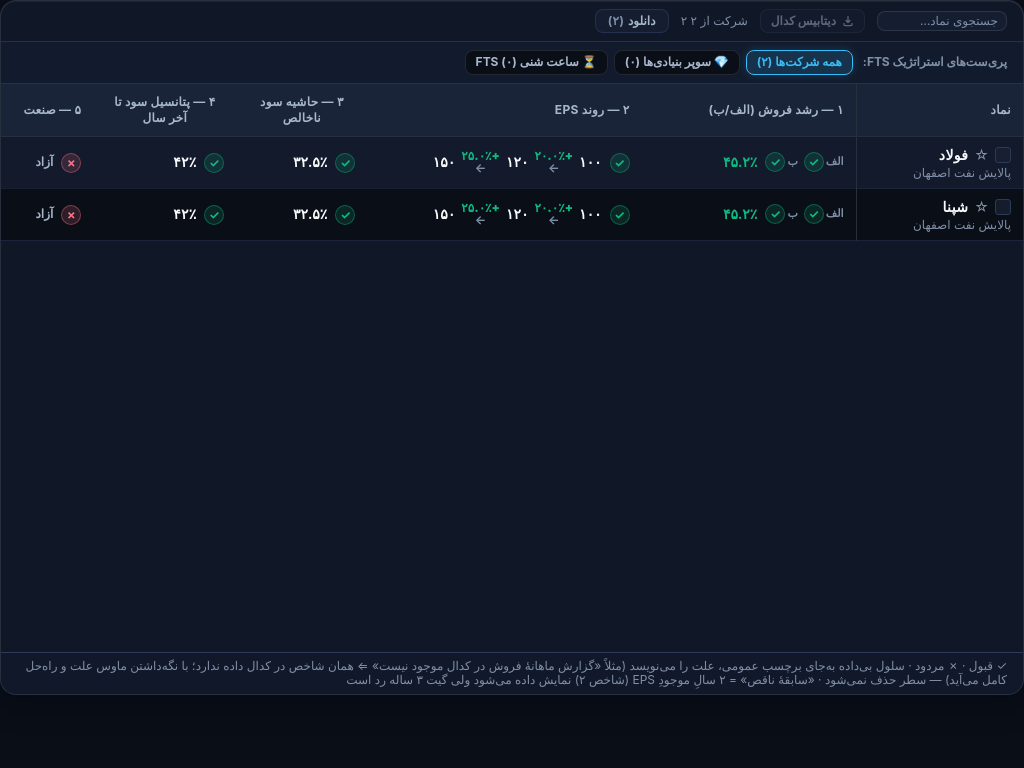
کارایی جدول غربالگری (F-08) › نتیجهٔ بی‌مورد: صفر ردیف و صفرِ شمارنده، نه پیامِ خطا
In the search field with test id "fts-search": [942, 21] box 886,14 -> 998,28, type "نیست"
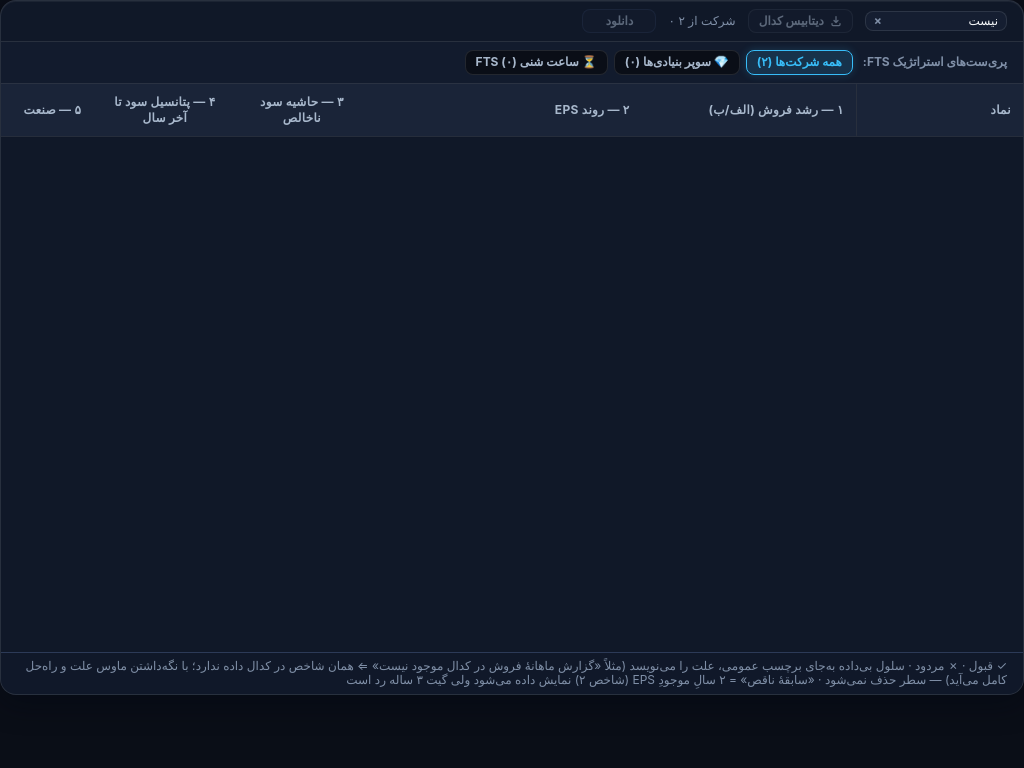
Expected: no rows with test id "fts-screen-row" are shown
Expected: the text "۰ شرکت از ۲" is shown, 668,14 -> 736,28
